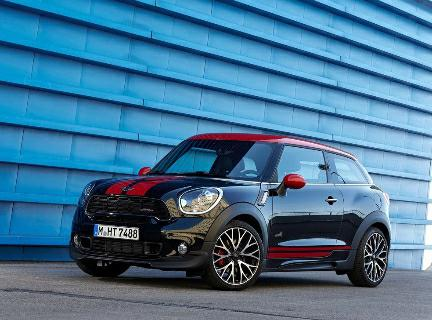MINI-JCWPACEMAN: (80, 126, 395, 287)
